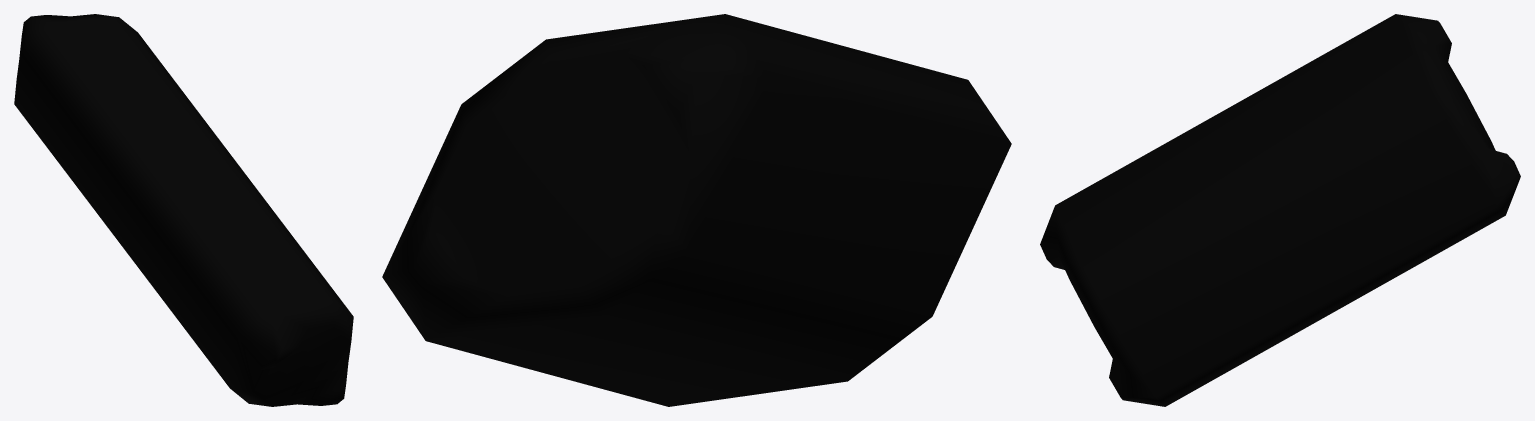
Rendered from hgn_collectable_loot_02.glb.
3 renders of one model, left to right at view 1: azimuth 30°, elevation 25°; view 2: azimuth 150°, elevation 25°; view 3: azimuth 270°, elevation 25°, orthographic. The views are drawn at different scales.
Visible parts, largest first — view 1: loot_container_02a; view 2: loot_container_02a; view 3: loot_container_02a.
Part boxes in pixels (x1=…): loot_container_02a: x1=14, y1=14, x2=353, y2=406; loot_container_02a: x1=382, y1=14, x2=1011, y2=406; loot_container_02a: x1=1040, y1=14, x2=1520, y2=406.
Bounding box in the file's own units: 0.4551 × 0.706 × 0.9543.
Materials: 1 (1 with a texture image).
